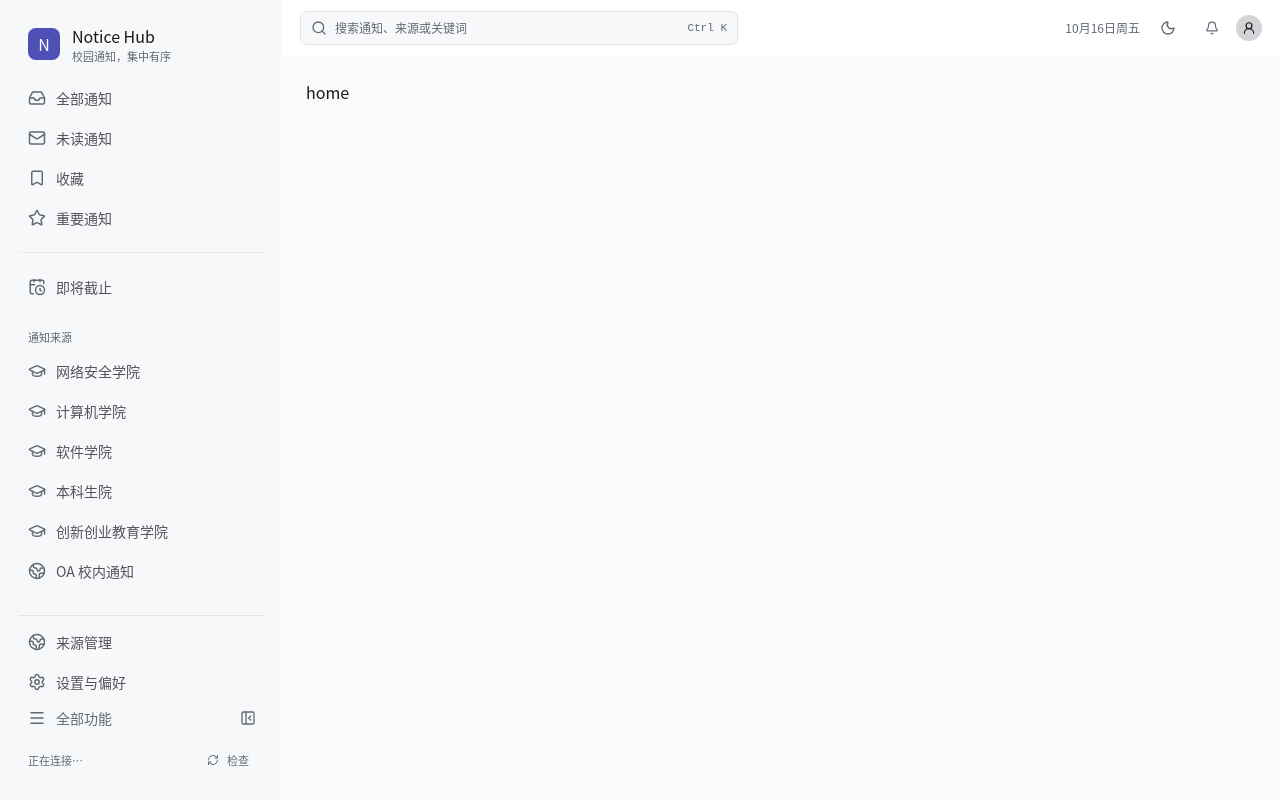
AppShell navigation › opens the application menu, exposes real actions, and closes on outside click
This screenshot has width=1280, height=800.
Expected: the navigation bar named "主导航" is shown, [18, 80, 264, 305]
Click the button named "应用菜单" at {"x": 1249, "y": 28}, box [1236, 15, 1262, 41]
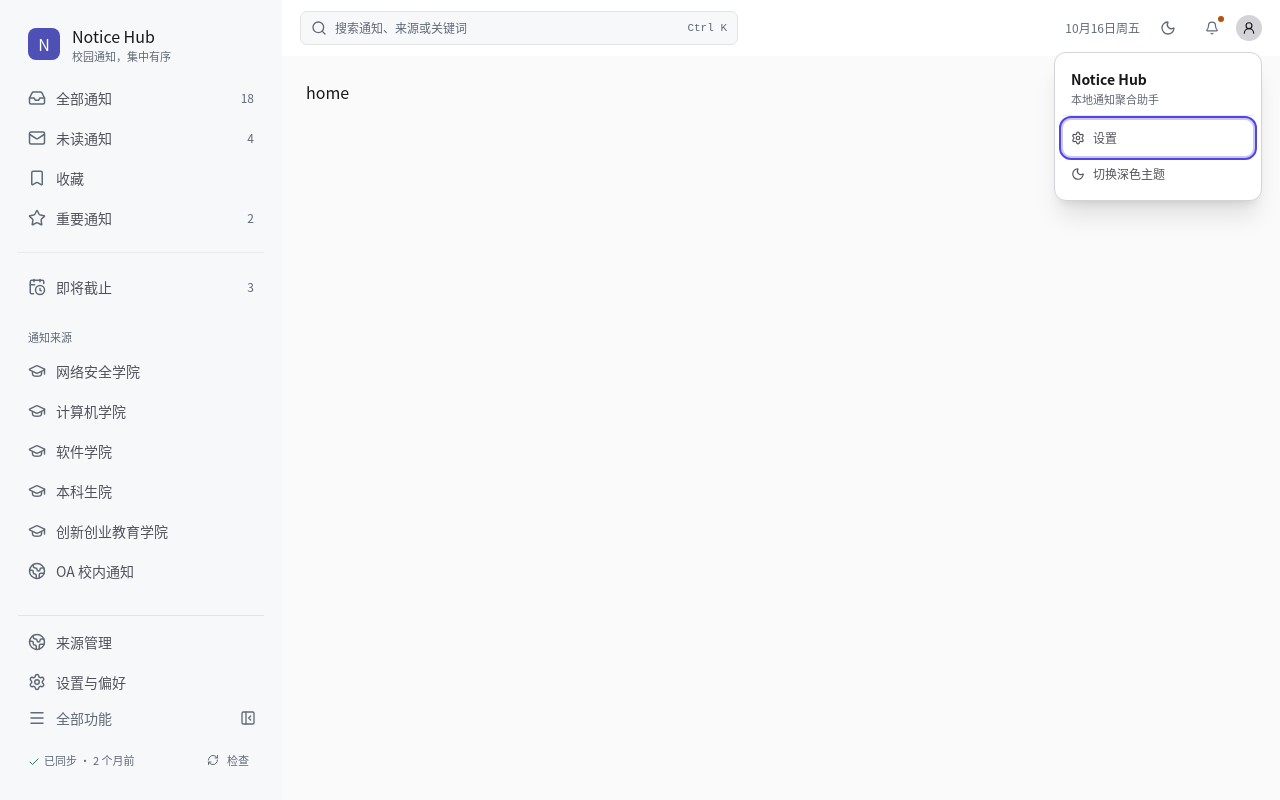
Now the text "本地通知聚合助手" is shown, box [1071, 91, 1159, 107]
Click the menu item "切换深色主题" at {"x": 1158, "y": 174}, box [1063, 156, 1253, 192]
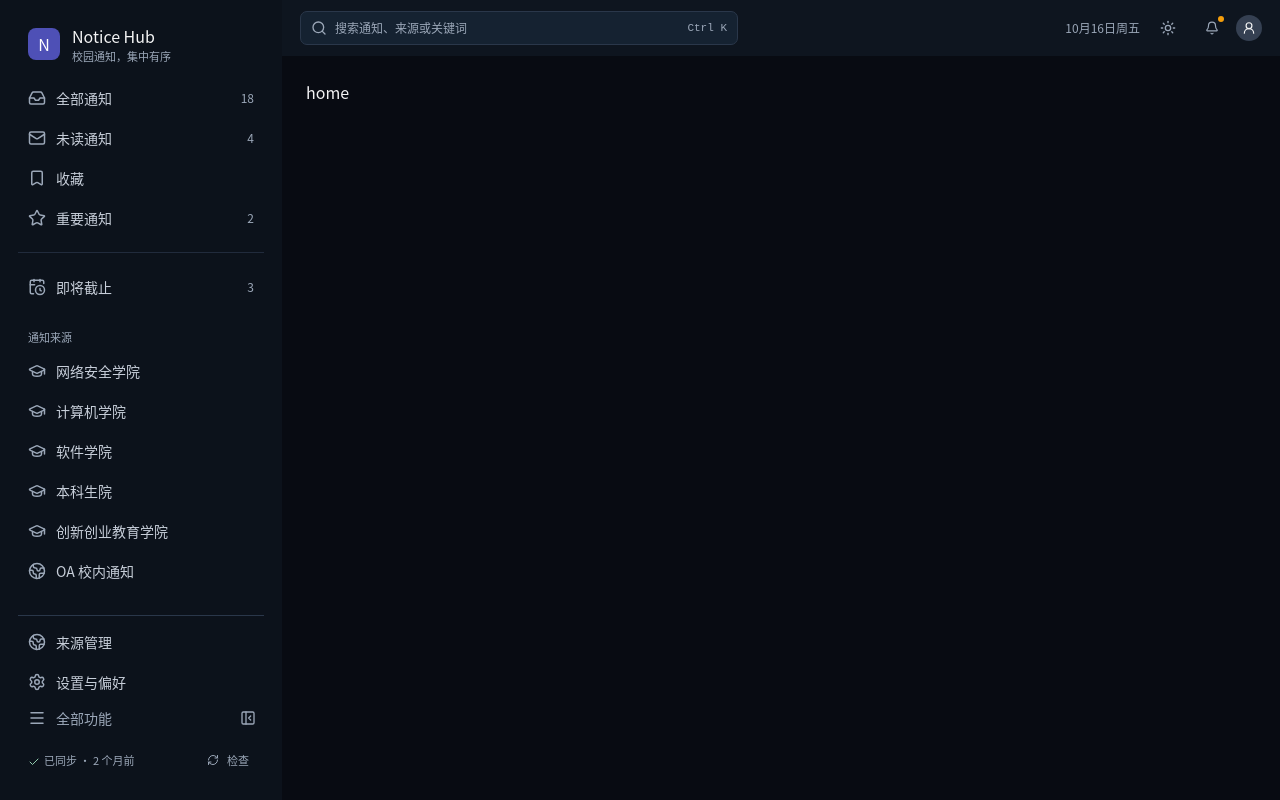
Now the menu "Notice Hub 本地通知聚合助手 设置 切换深色主题" is gone
Click the button named "应用菜单" at {"x": 1249, "y": 28}, box [1236, 15, 1262, 41]
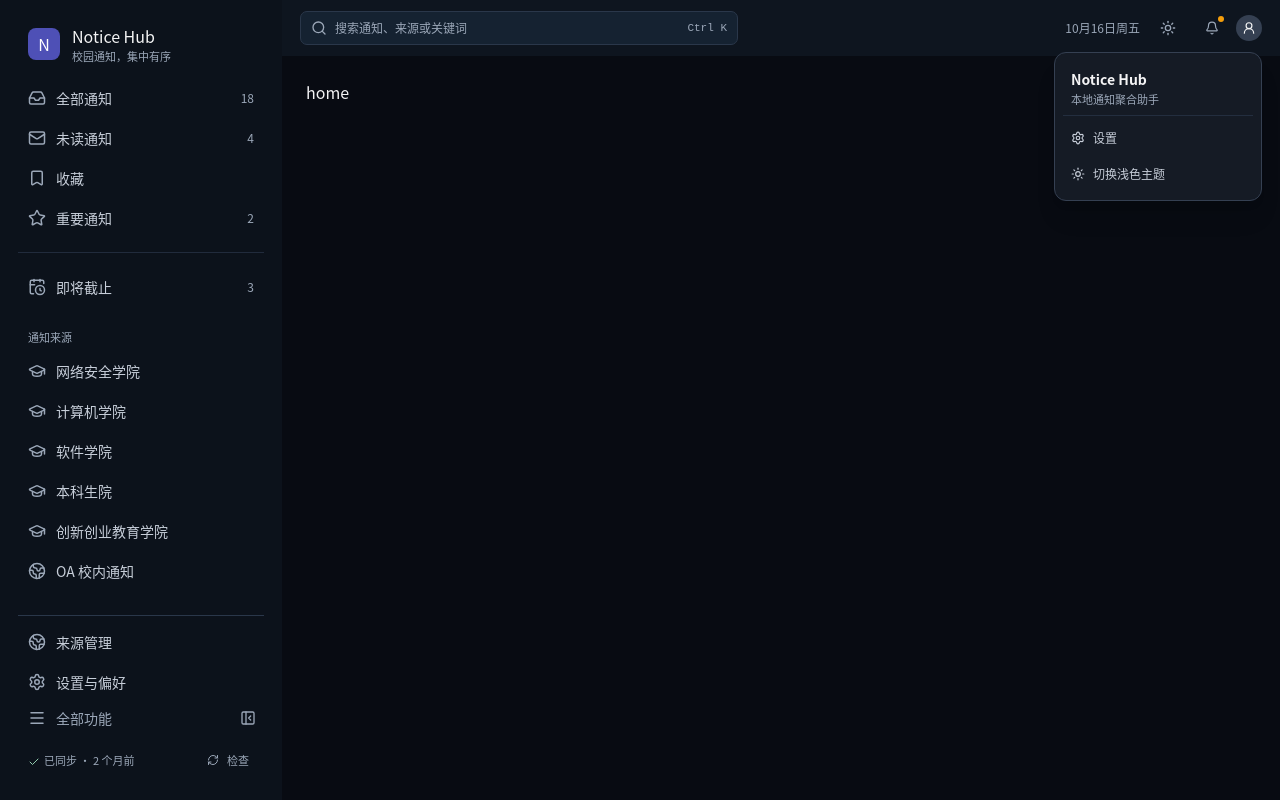
Now the menu named "应用菜单" is shown, box [1054, 52, 1262, 201]
Press the mouse on the element that starts with "Notice Hub" at {"x": 640, "y": 400}, box [0, 0, 1279, 799]
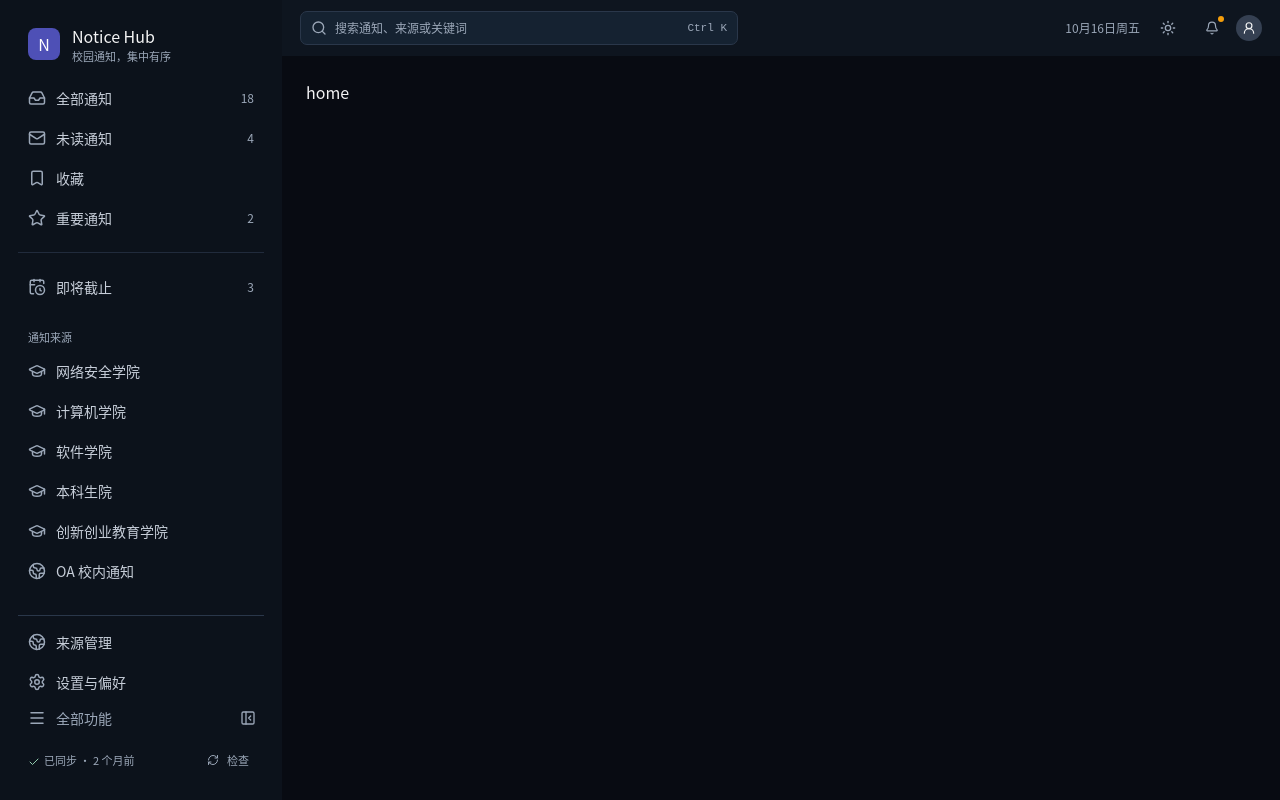
Now the menu "Notice Hub 本地通知聚合助手 设置 切换浅色主题" is gone
